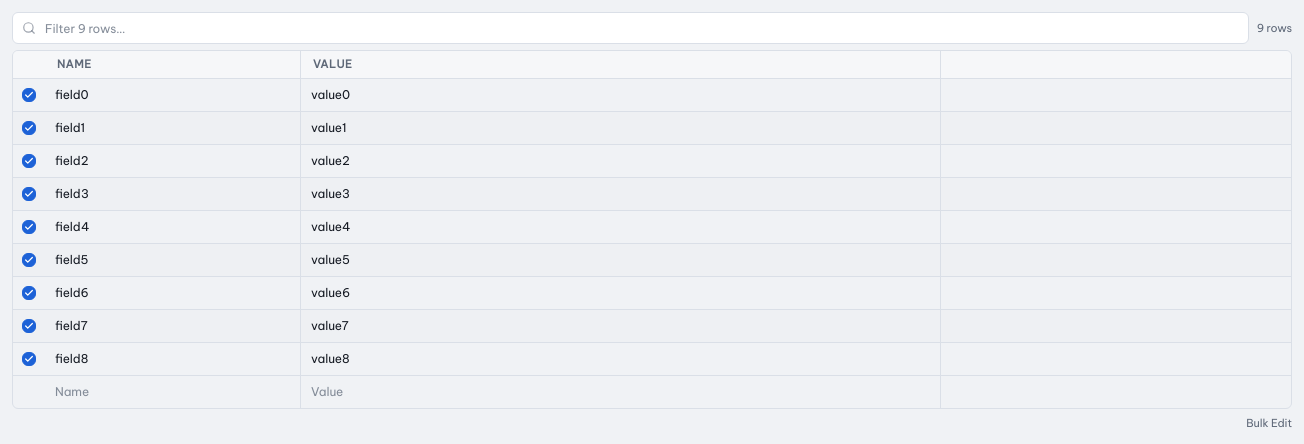
it: KeyValueEditor — empty filter result › says why the table is empty rather than showing a bare ghost row
Type "nothing-matches" into the field named "Filter rows". click: (630, 28)
box: [12,12,1249,44]
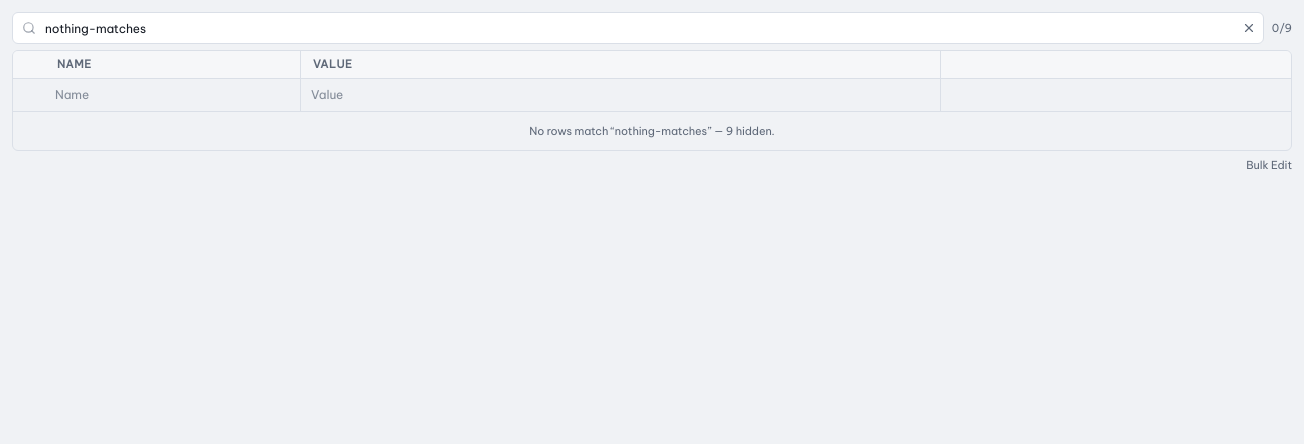
Expected: the text "No rows match “nothing-matches” — 9 hidden." is shown, [529,124,775,138]
